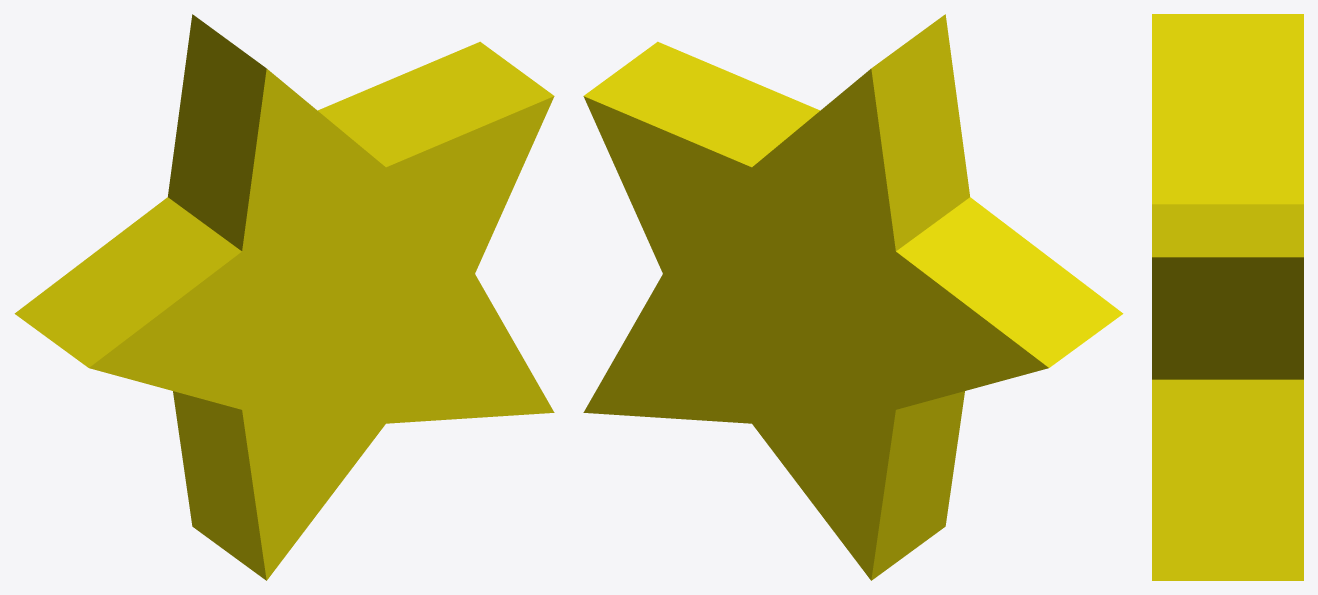
The model's file is Star.fbx.
3 renders of one model, left to right at view 1: azimuth 30°, elevation 25°; view 2: azimuth 150°, elevation 25°; view 3: azimuth 270°, elevation 25°, orthographic. The views are drawn at different scales.
Parts seen in each view (by area): view 1: Star; view 2: Star; view 3: Star.
Part boxes in pixels (x1,y1,x2,y2): Star: (14, 14, 554, 580); Star: (583, 14, 1123, 580); Star: (1152, 14, 1303, 580).
Size of the model in its own units: 181 by 190 by 50.
